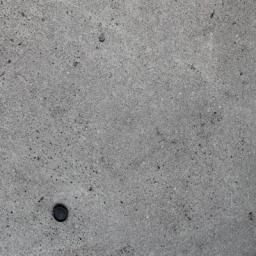FOD: (51, 202, 72, 225)
